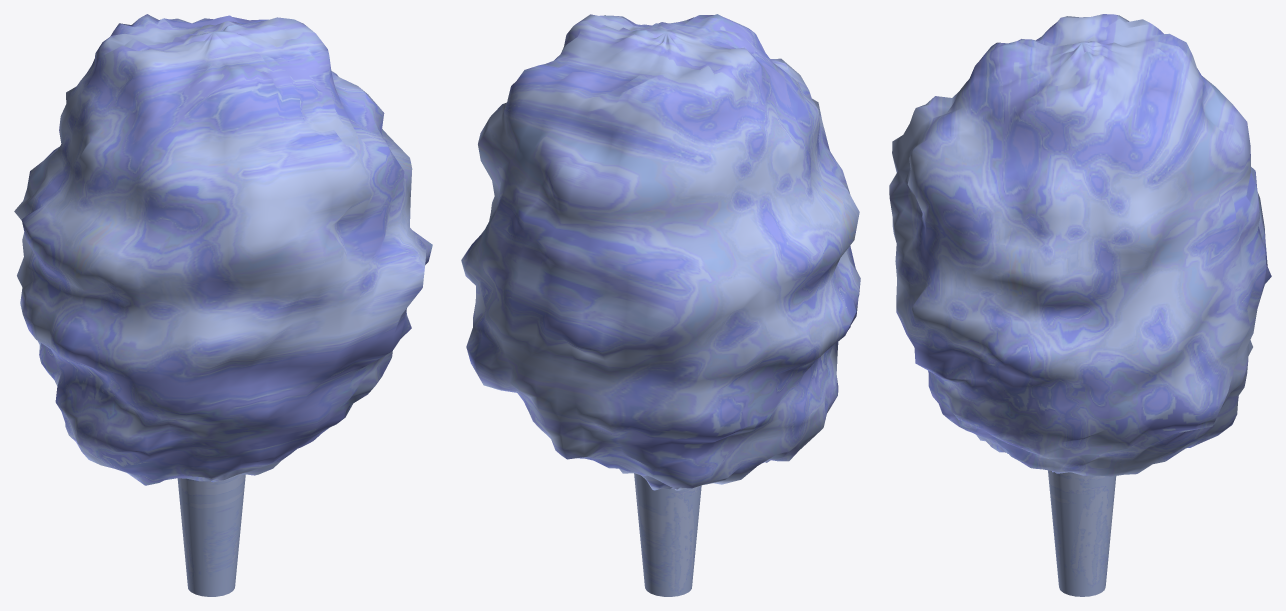
Rendered from ArbolM2.fbx.
The picture shows the model from 3 angles, left to right: view 1: azimuth 30°, elevation 25°; view 2: azimuth 150°, elevation 25°; view 3: azimuth 270°, elevation 25°; orthographic projection.
Parts seen in each view (by area): view 1: boom_004; view 2: boom_004; view 3: boom_004.
Part boxes in pixels (x1,y1,x2,y2): boom_004: (14, 14, 432, 596); boom_004: (461, 14, 860, 596); boom_004: (889, 14, 1271, 596).
Bounding box in the file's own units: 35.1 × 52.22 × 33.19.
1 material, 1 textured.
